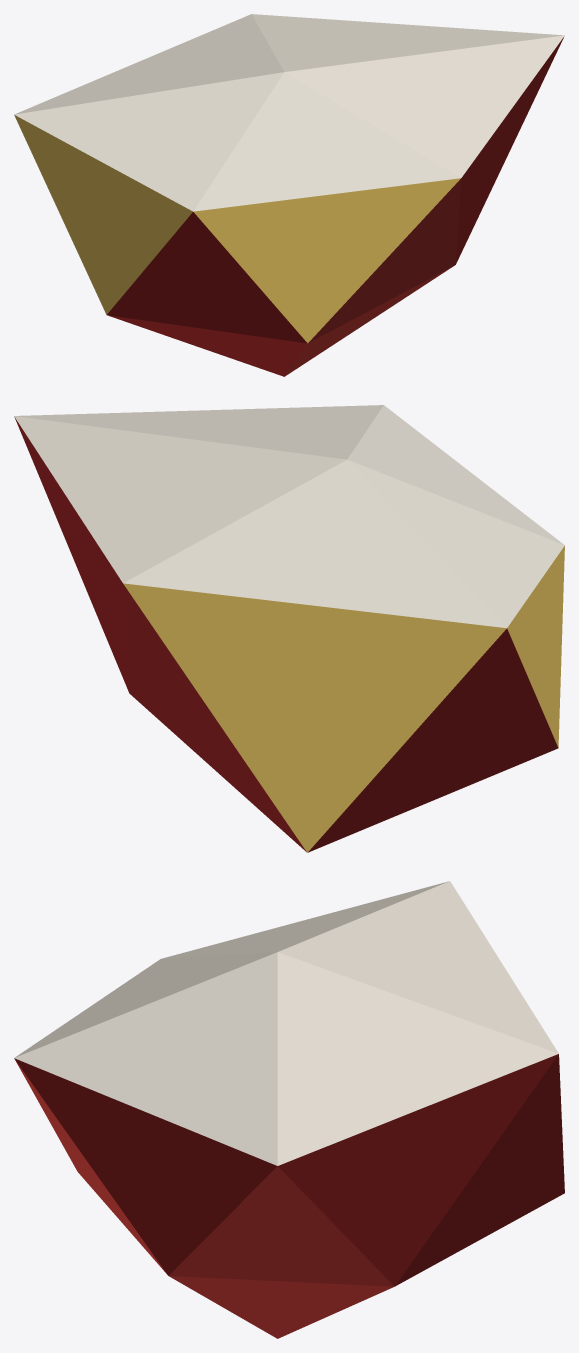
The model's file is flesh_chunk_1.glb.
3 renders of one model, top to bottom at view 1: azimuth 30°, elevation 25°; view 2: azimuth 150°, elevation 25°; view 3: azimuth 270°, elevation 25°, orthographic. The views are drawn at different scales.
Parts seen in each view (by area): view 1: flesh_chunk_1; view 2: flesh_chunk_1; view 3: flesh_chunk_1.
Part boxes in pixels (<box>): flesh_chunk_1: <box>14,14,564,376</box>; flesh_chunk_1: <box>14,405,564,852</box>; flesh_chunk_1: <box>14,881,564,1338</box>.
Bounding box in the file's own units: 0.0298 × 0.018 × 0.0232.
